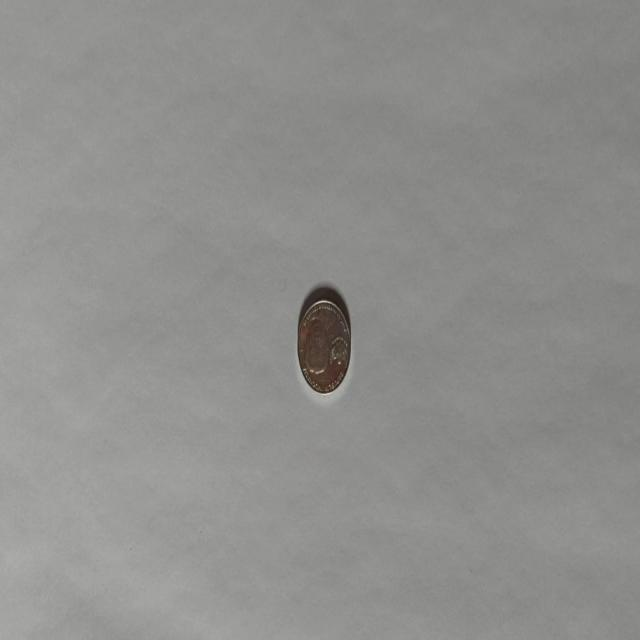seratus rupiah: (296, 296, 352, 395)
